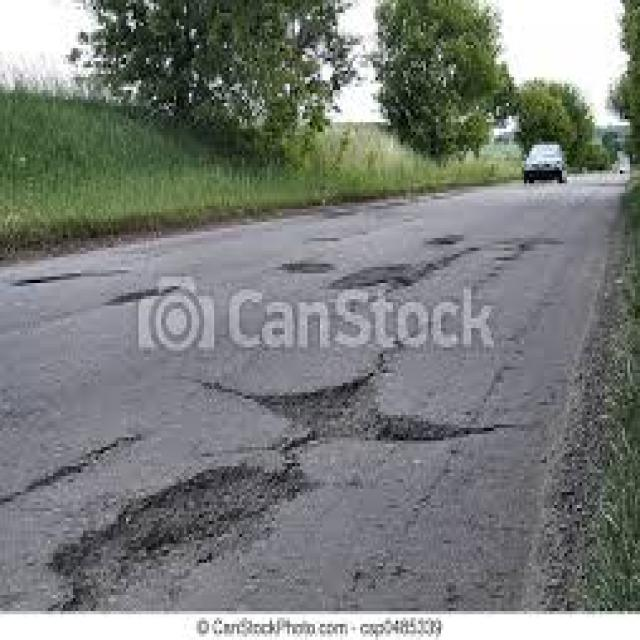Pothole: (76, 376, 464, 608)
